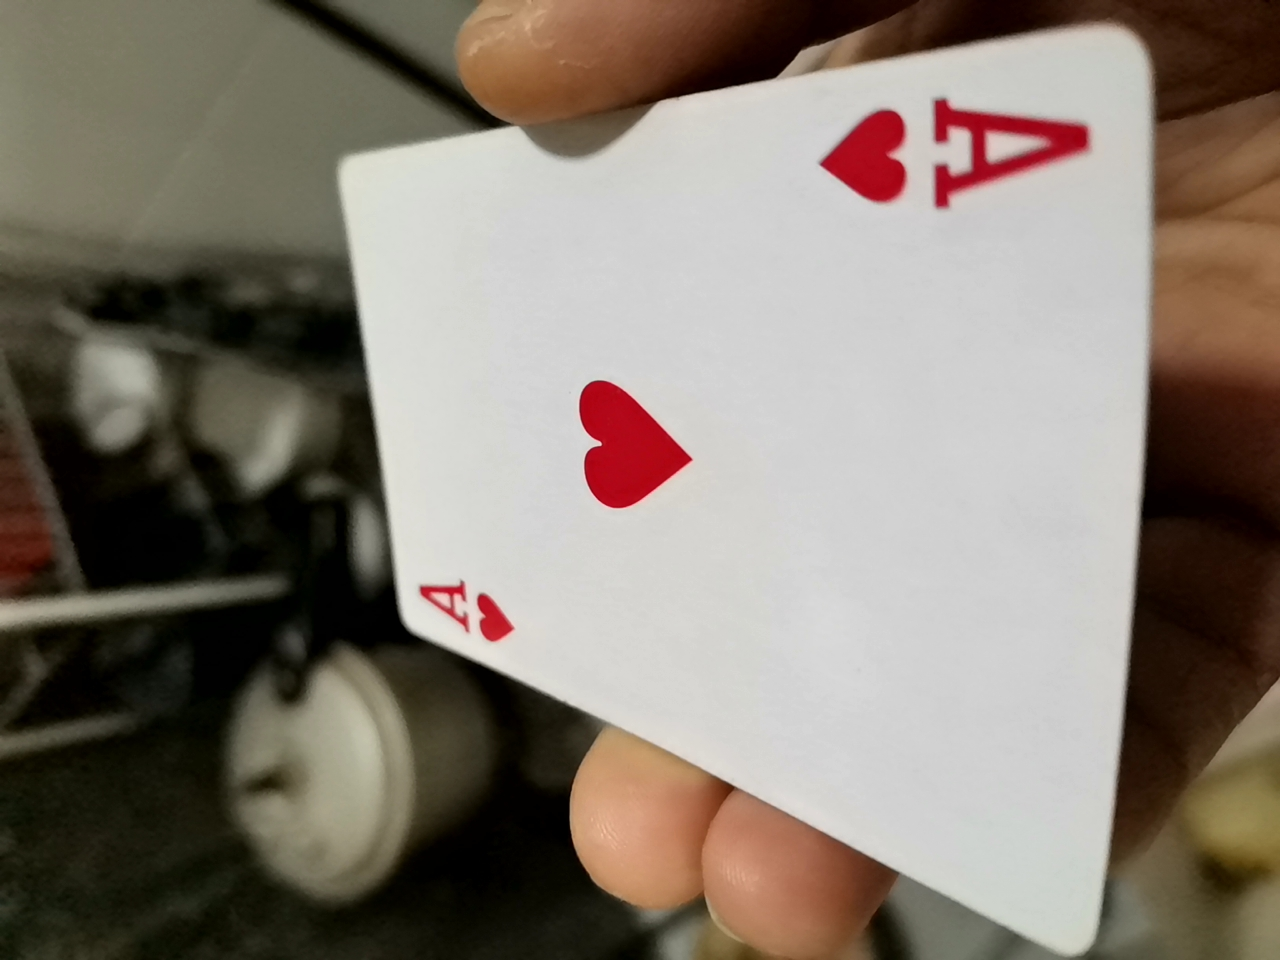hx a: (347, 53, 1116, 935)
